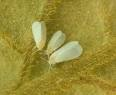whitefly: (47, 40, 84, 63), (46, 30, 66, 59), (30, 21, 48, 52)
